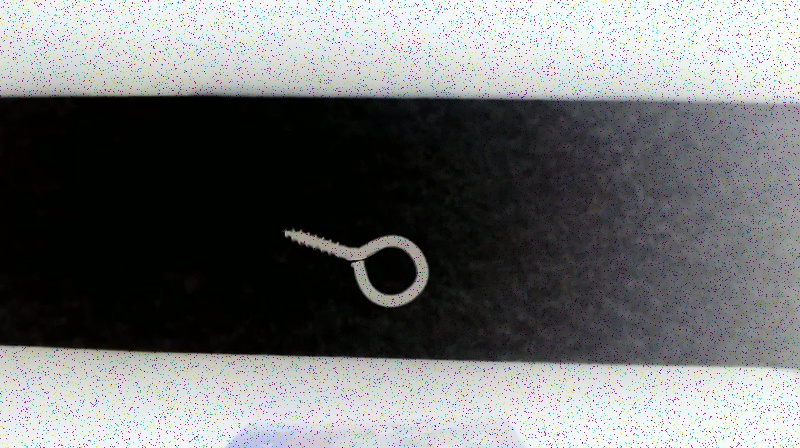O001: (279, 224, 433, 309)
